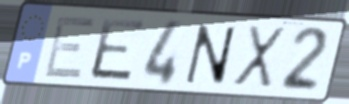2: (279, 24, 332, 95)
4: (141, 17, 180, 88)
E: (88, 16, 149, 84), (41, 15, 99, 82)
N: (183, 22, 238, 88)
X: (229, 23, 288, 92)
